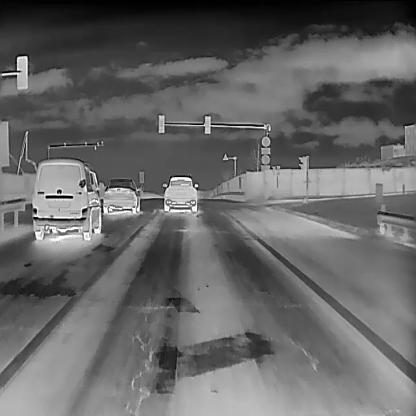car: (31, 156, 104, 240), (162, 174, 198, 212), (103, 177, 140, 213)
